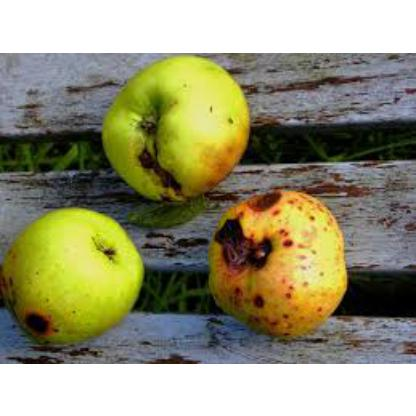apple: (2, 202, 152, 350), (215, 197, 349, 331), (109, 60, 247, 186)
